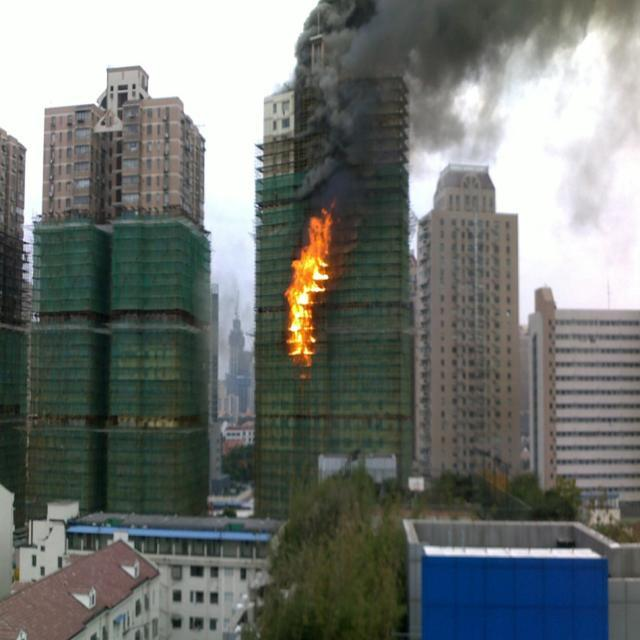Fire: (285, 212, 341, 362)
Smoke: (297, 0, 608, 207)
